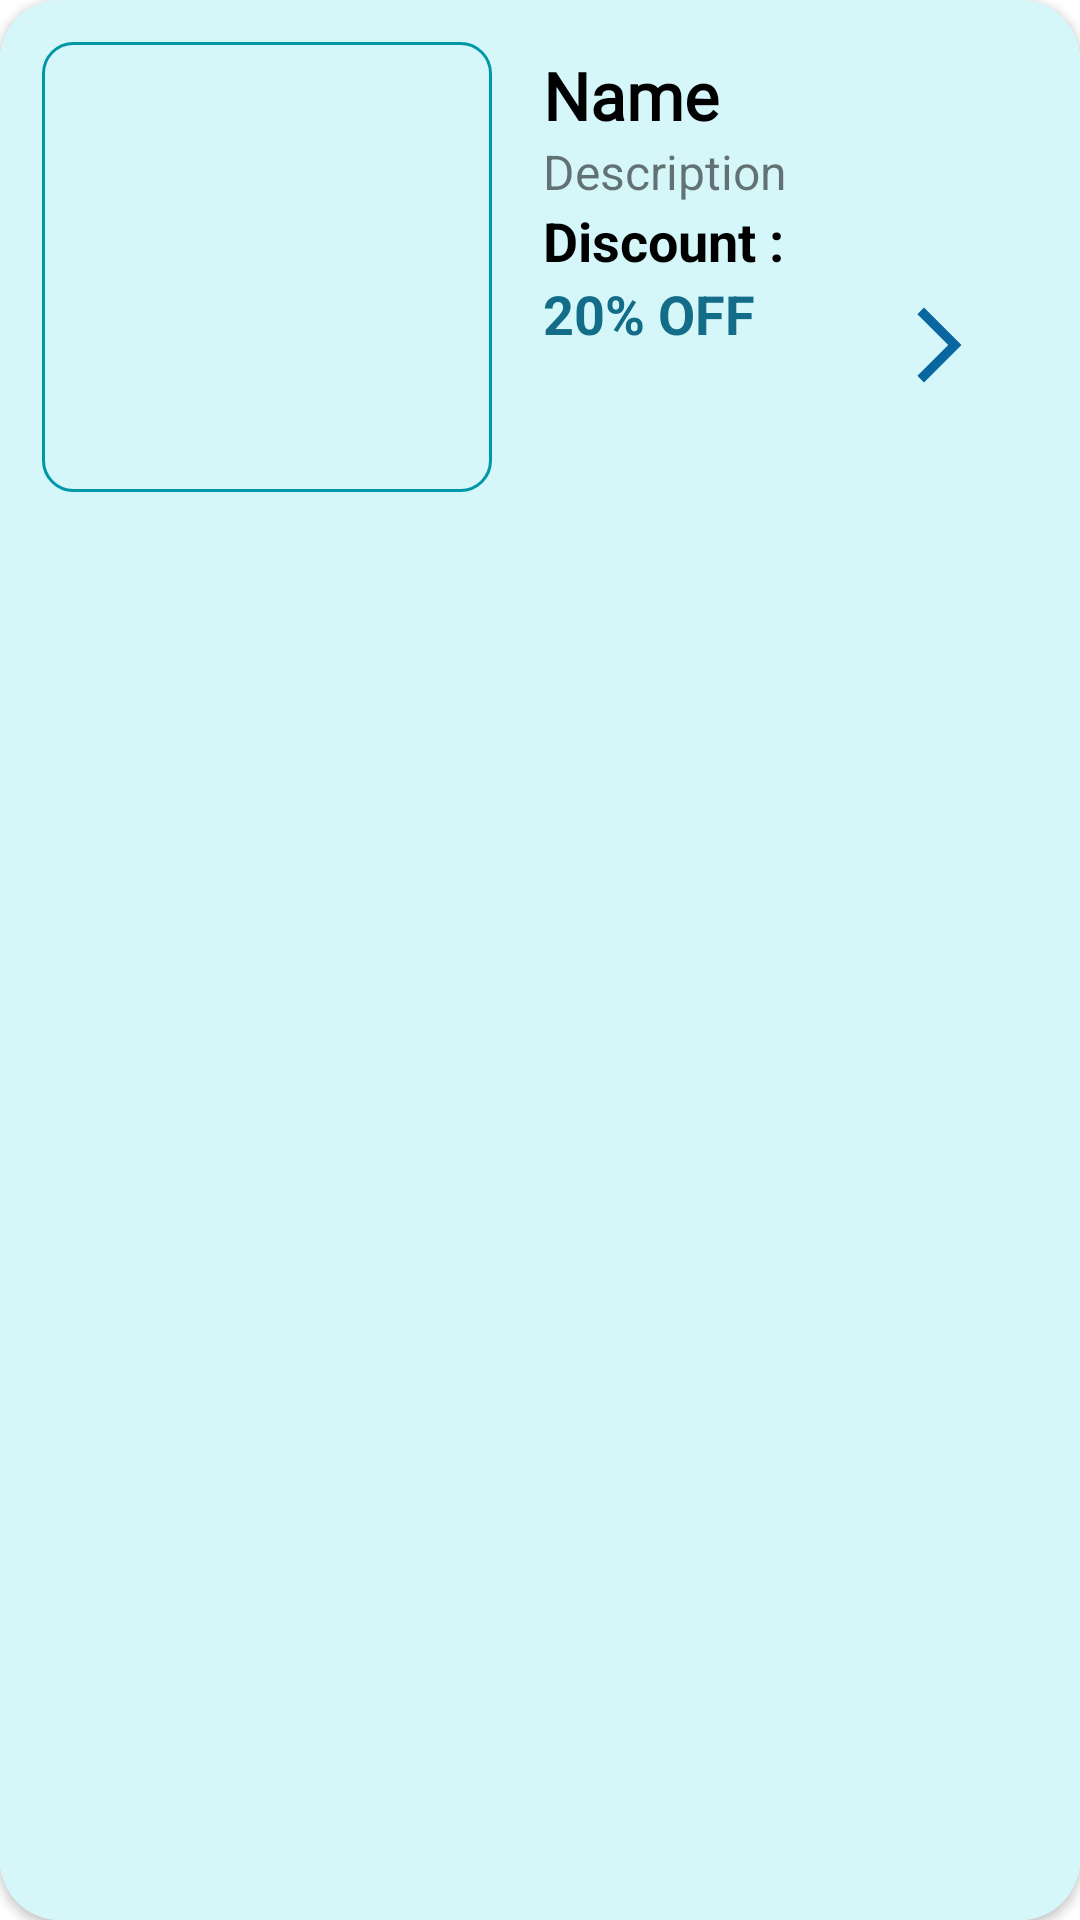

Icons on this 1080*1920 Android screen, each with its box as (x1, y1, x2, y2):
arrow forward: (917, 307, 961, 383)
